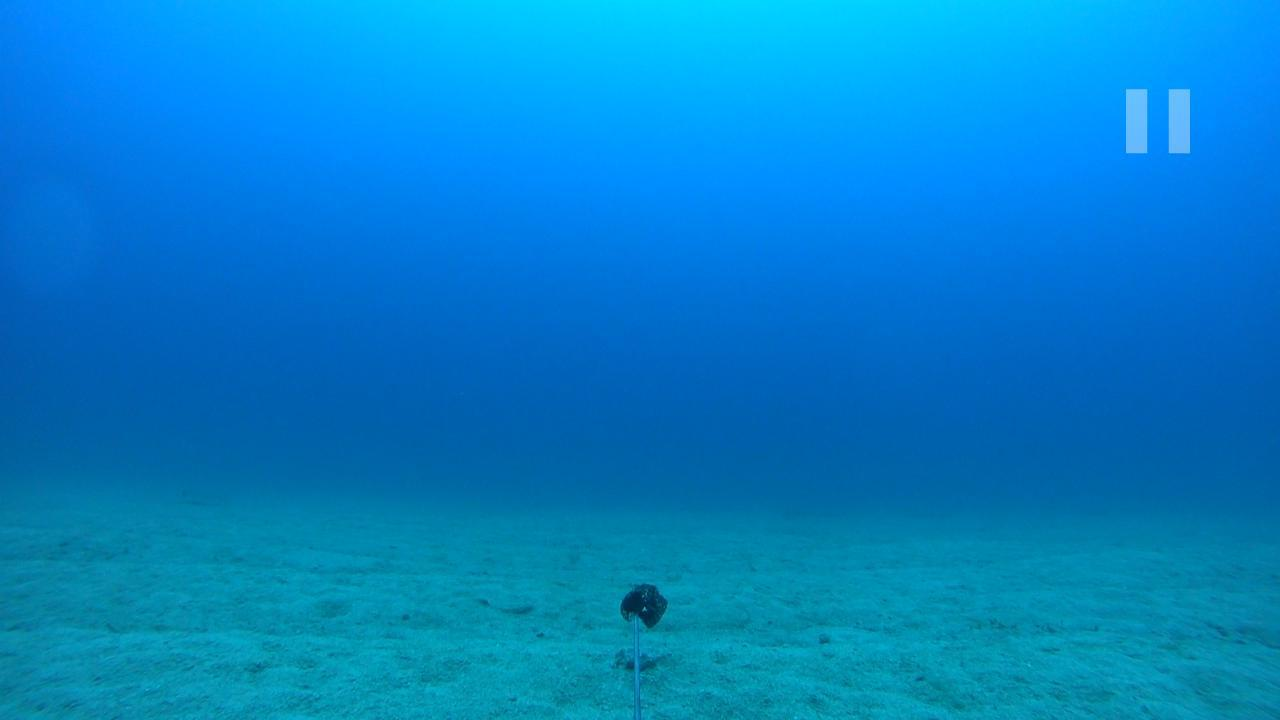bothus: (470, 585, 538, 621)
